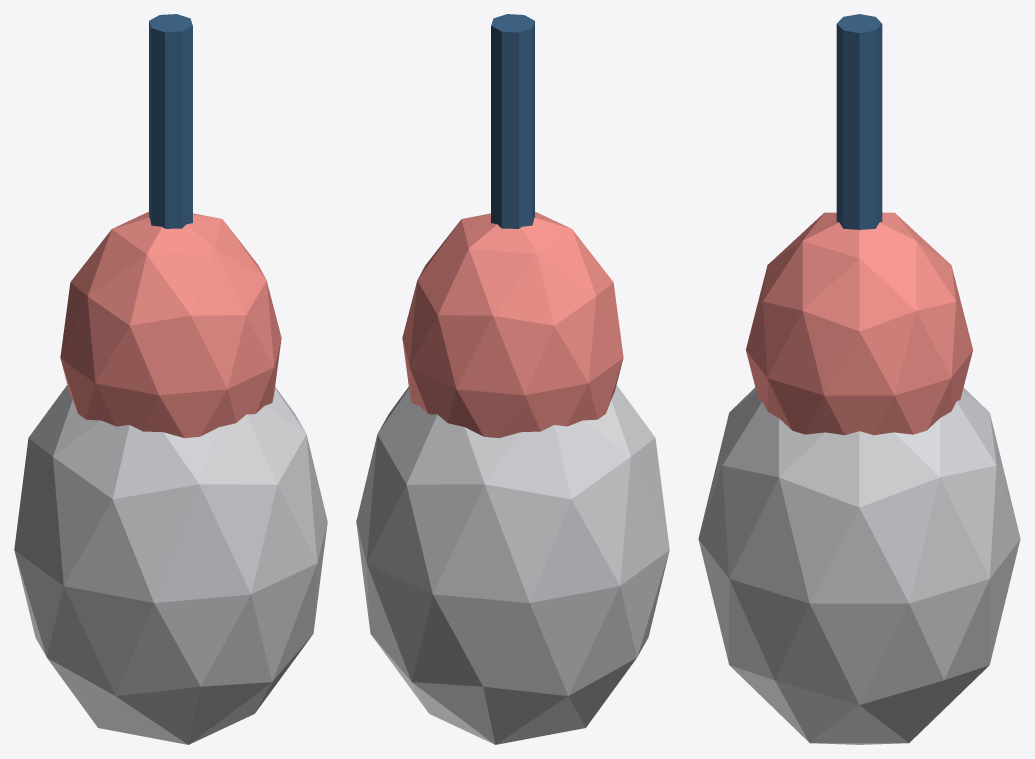
Rendered from fishing_bobber.glb.
3 views of the same model, side by side, from view 1: azimuth 30°, elevation 25°; view 2: azimuth 150°, elevation 25°; view 3: azimuth 270°, elevation 25° (orthographic).
Parts seen in each view (by area): view 1: fishing_bobber; view 2: fishing_bobber; view 3: fishing_bobber.
Boxes of the visible parts, x1,y1,x2,y2 form: fishing_bobber: (14, 14, 327, 744); fishing_bobber: (356, 14, 669, 744); fishing_bobber: (698, 14, 1020, 744).
Bounding box in the file's own units: 0.1617 × 0.42 × 0.17.
